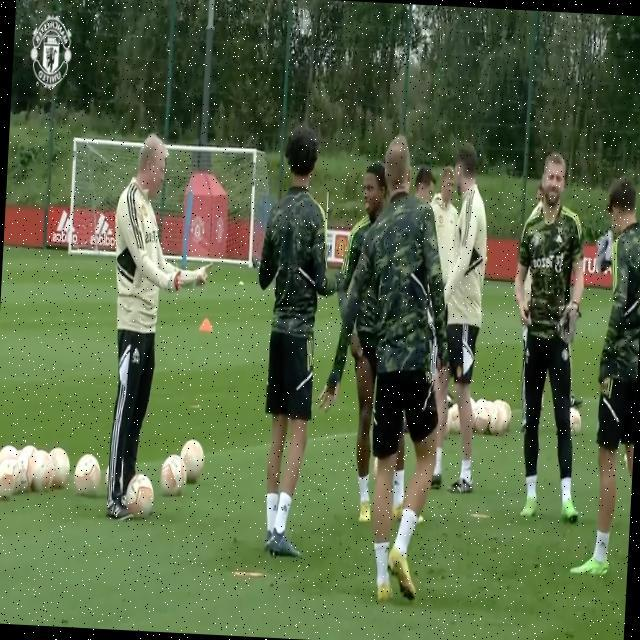Adidas: (50, 207, 117, 250), (281, 499, 290, 517)
